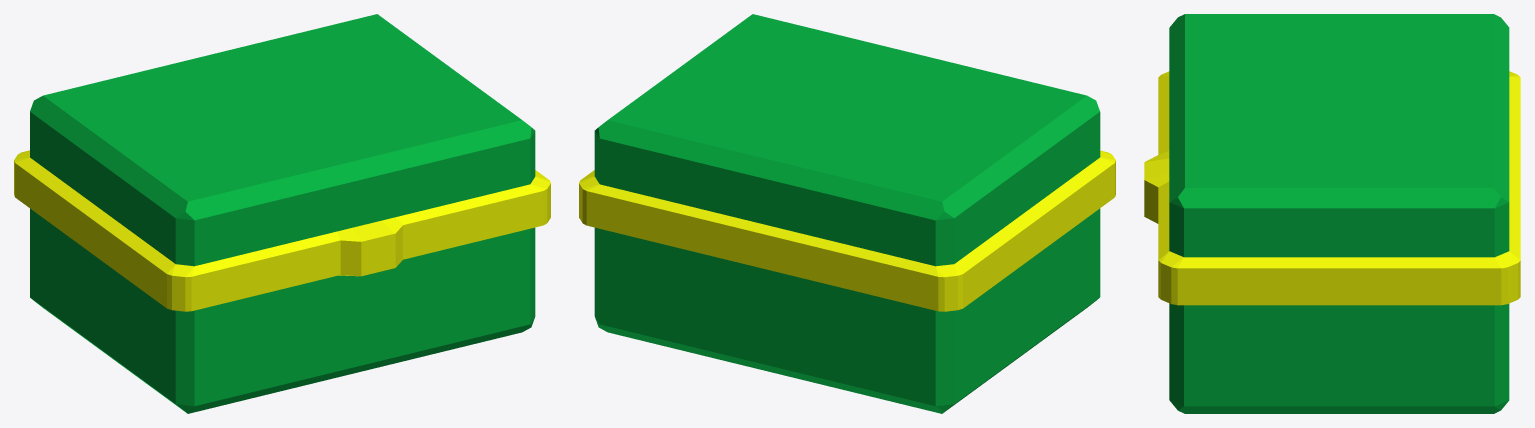
The model's file is greenchest.glb.
The picture shows the model from 3 angles, left to right: view 1: azimuth 30°, elevation 25°; view 2: azimuth 150°, elevation 25°; view 3: azimuth 270°, elevation 25°; orthographic projection. The views are drawn at different scales.
Parts seen in each view (by area): view 1: Cube; view 2: Cube; view 3: Cube.
Part boxes in pixels (x1,y1,x2,y2): Cube: (14,14,550,413); Cube: (579,14,1115,413); Cube: (1144,14,1520,413).
Bounding box in the file's own units: 6.11 × 3.24 × 4.88.
